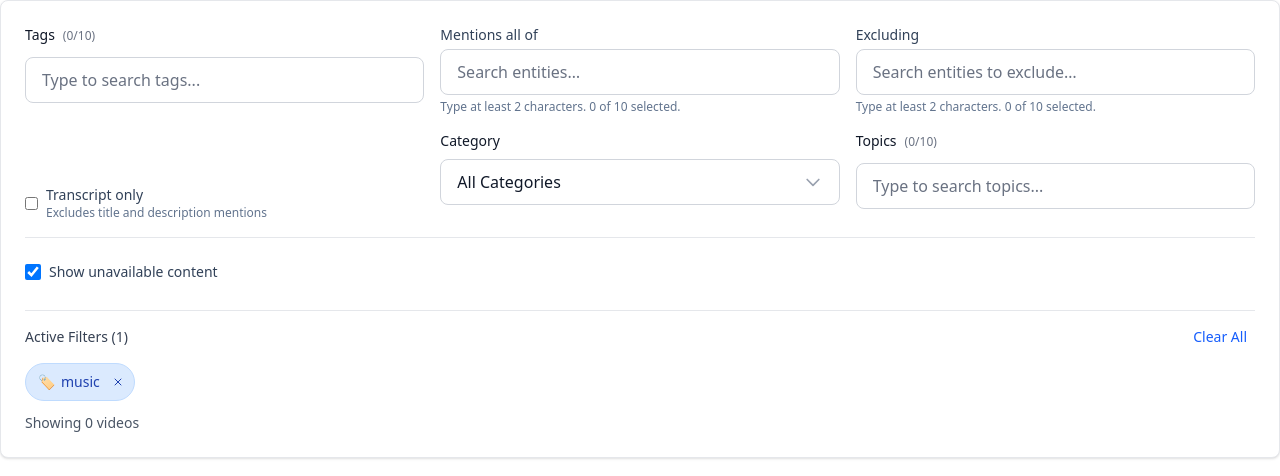
IncludeUnavailableToggle - VideoFilters › Clear All Filters › should clear include_unavailable when Clear All is clicked
This screenshot has width=1280, height=476.
Expected: the checkbox labelled "Show unavailable content" is checked, [25,264,41,280]
# Click Clear All button (uses 150ms debounce internally)
Click the button "Clear All".
click(1220, 337)  # box [1185,323,1255,351]
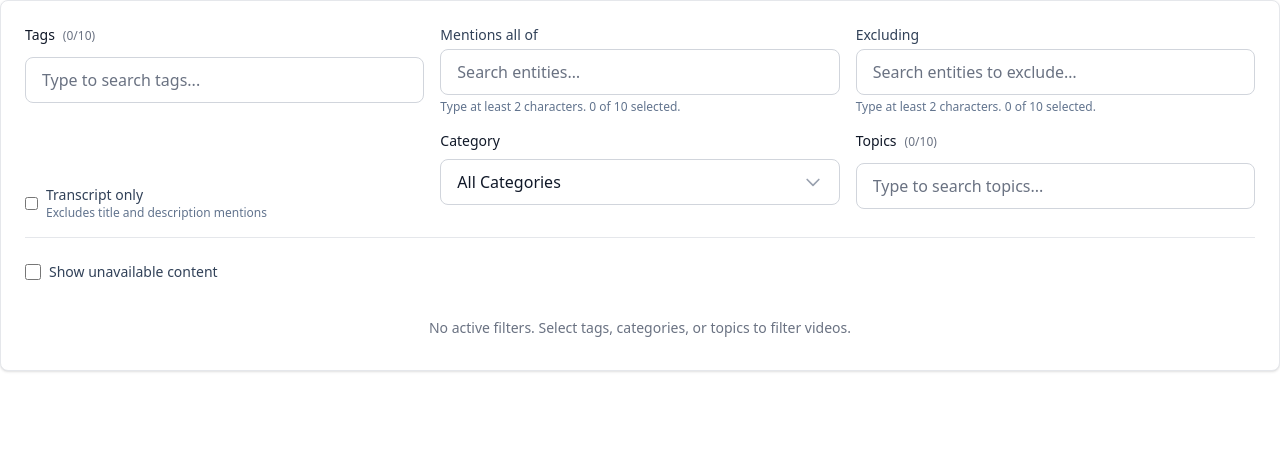
Expected: the checkbox labelled "Show unavailable content" is not checked, [25,264,41,280]
